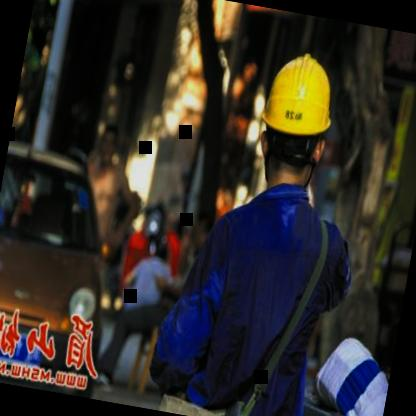helmet: (247, 38, 346, 194)
